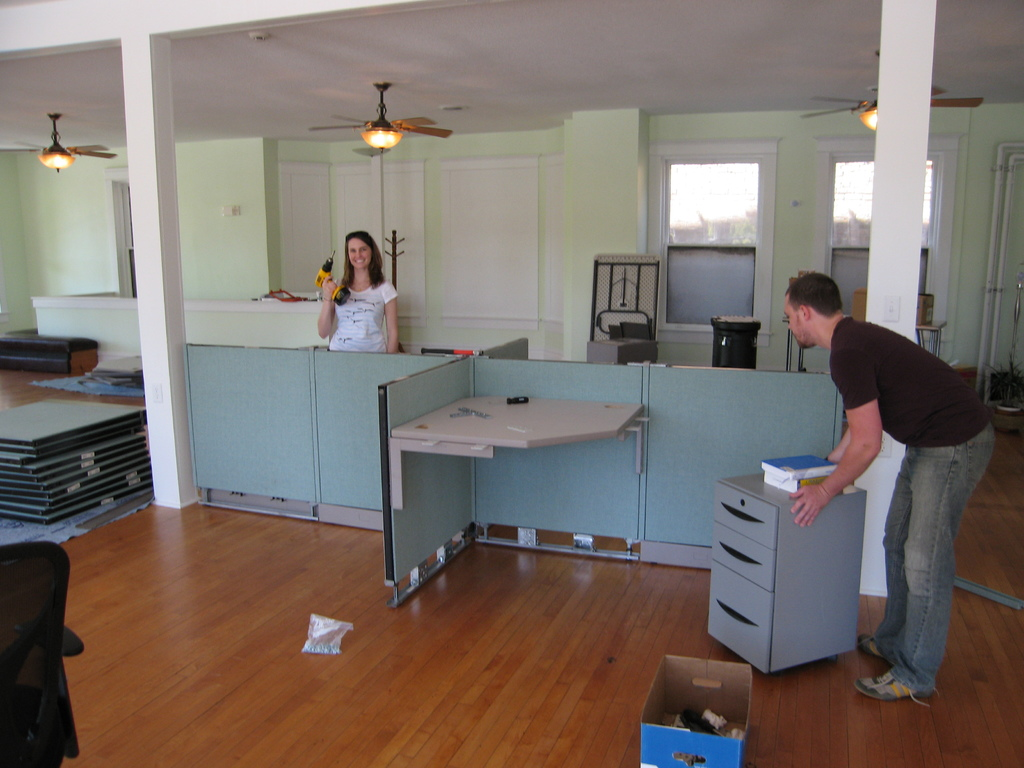cabinet door: (706, 562, 774, 657), (718, 522, 779, 587), (719, 489, 778, 543)
handle: (714, 595, 760, 641), (719, 499, 769, 528), (718, 542, 755, 575)
